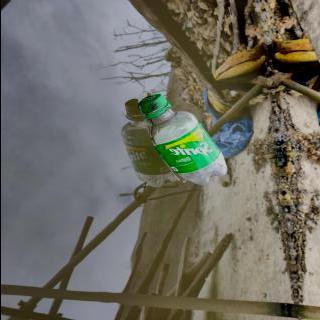bottle: (134, 90, 229, 188)
